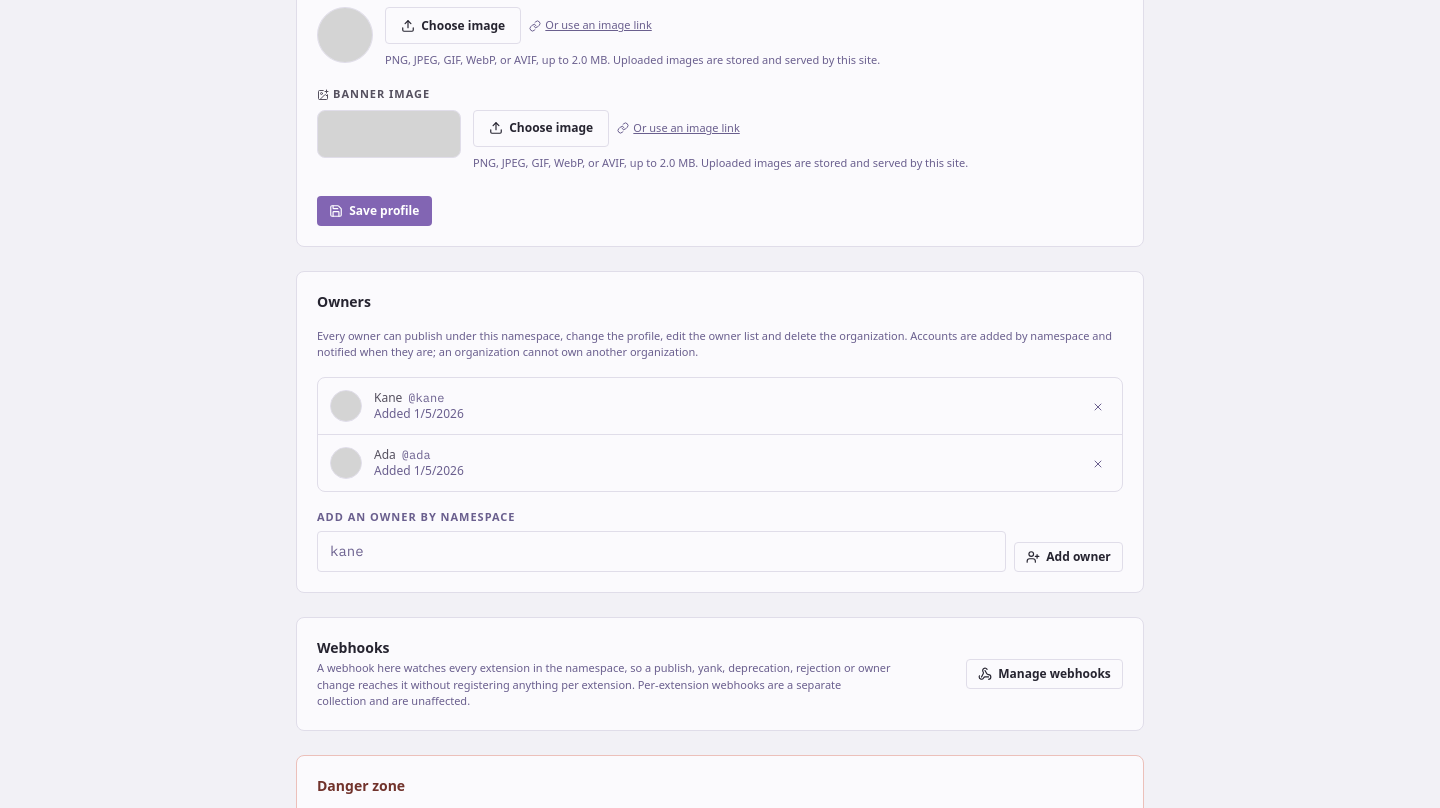
it: OrganizationSettingsPage › stays on settings when self-removal fails
The width and height of the screenshot is (1440, 808).
(page scrolled)
Click the button named "Remove @kane as an owner". click: (1098, 406)
box: 1086,392 -> 1110,420
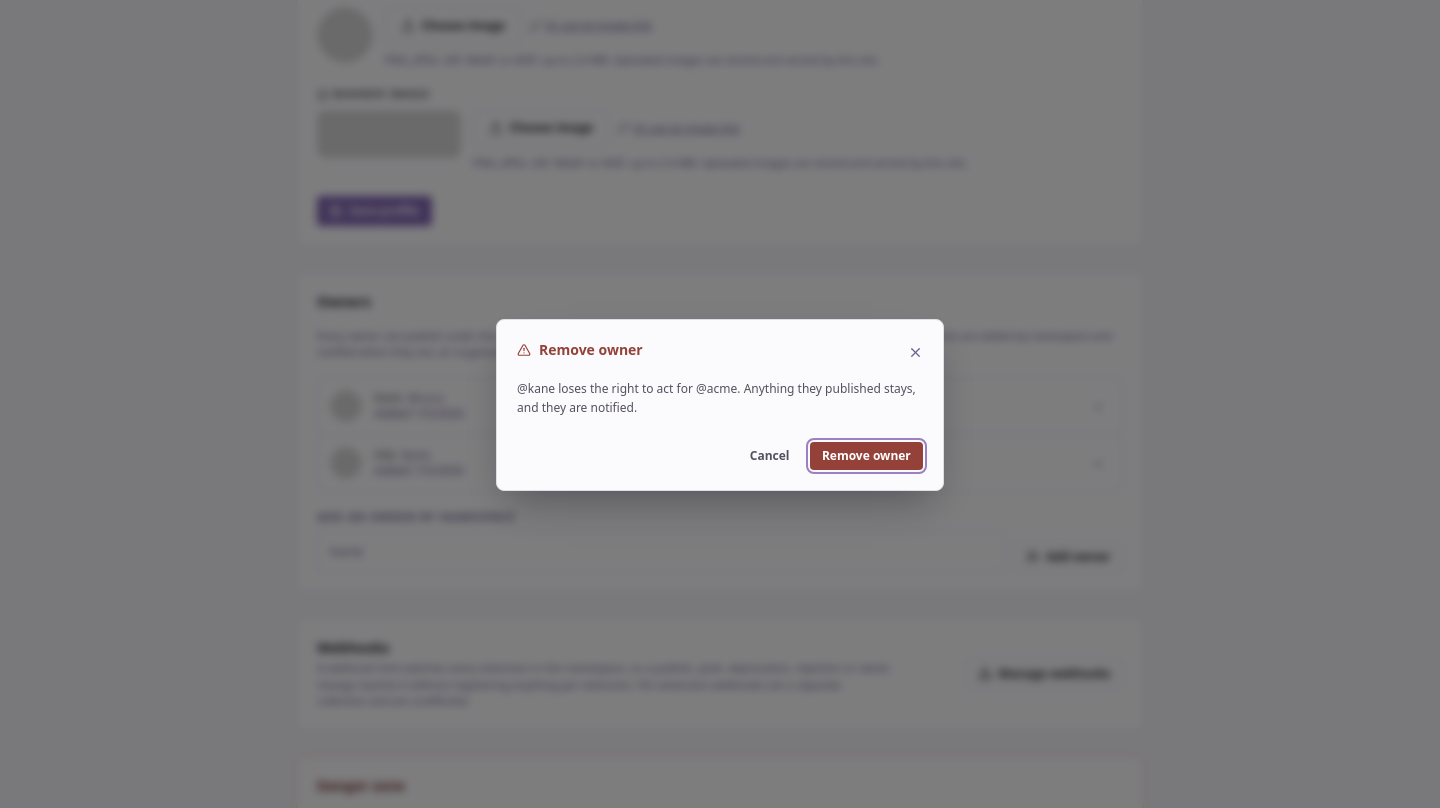
Click the button "Remove owner". click: (866, 456)
box: 810,442 -> 923,470
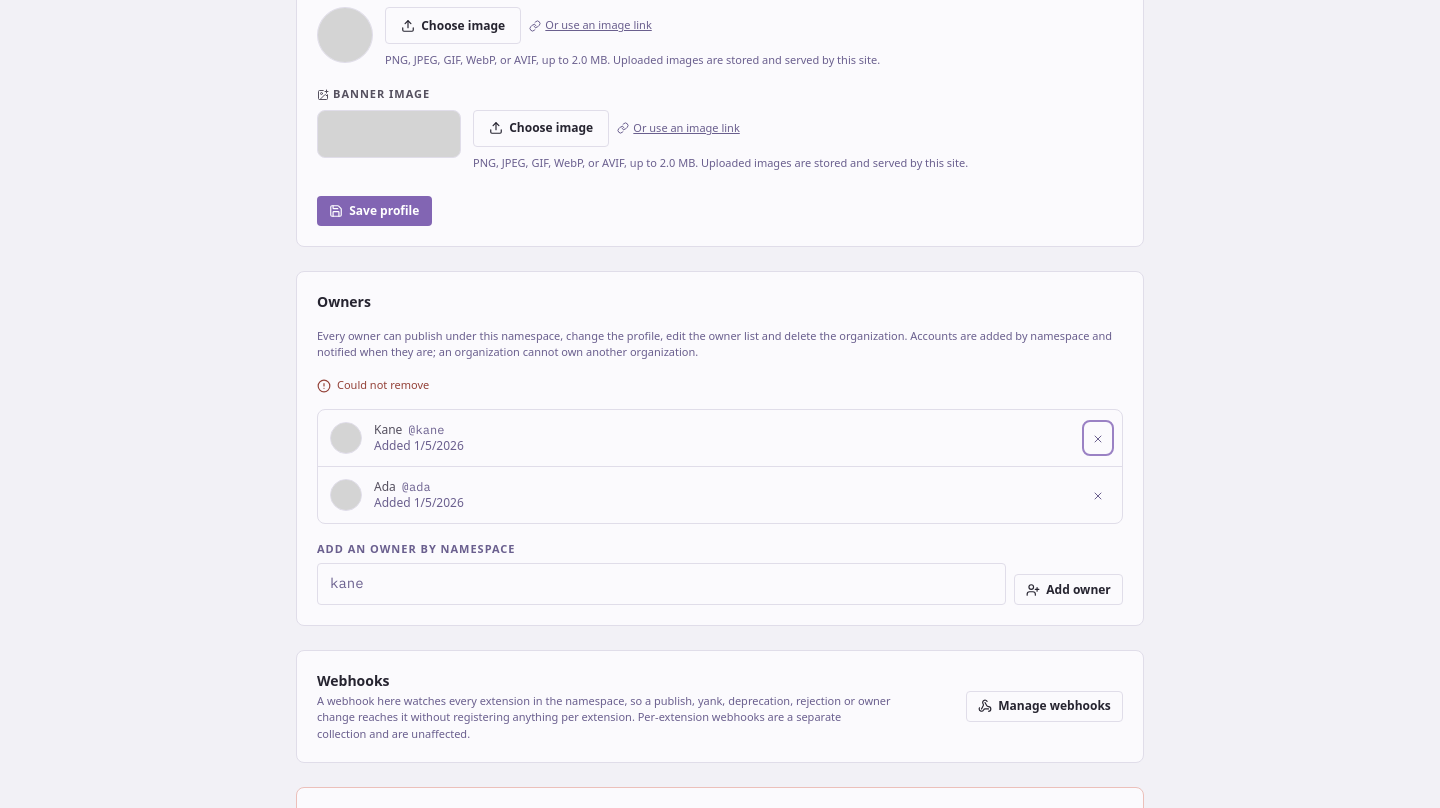
Check: the message reads "Could not remove", box 337,377 -> 429,392
